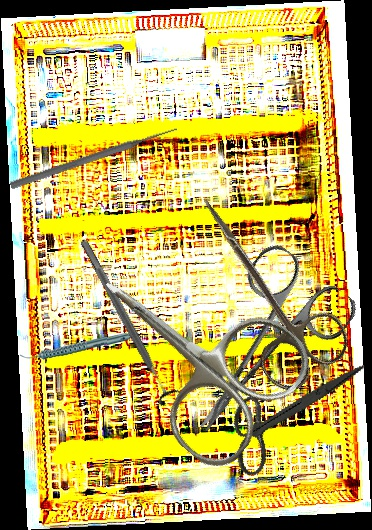Fixation Ring: (70, 233, 186, 410)
Handpiece: (19, 329, 137, 363)
Iris Scissors: (57, 221, 322, 479), (155, 238, 362, 461), (162, 175, 359, 399), (213, 325, 366, 501)
Pusher: (9, 123, 179, 192)
